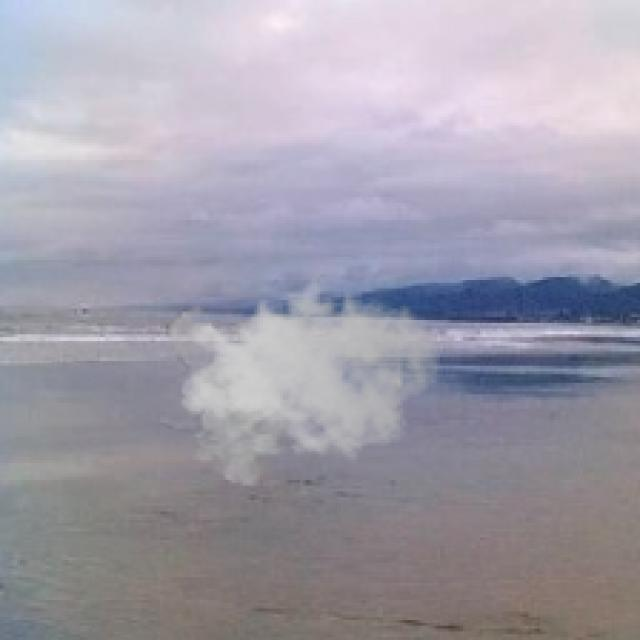Smoke: (160, 268, 443, 486)
